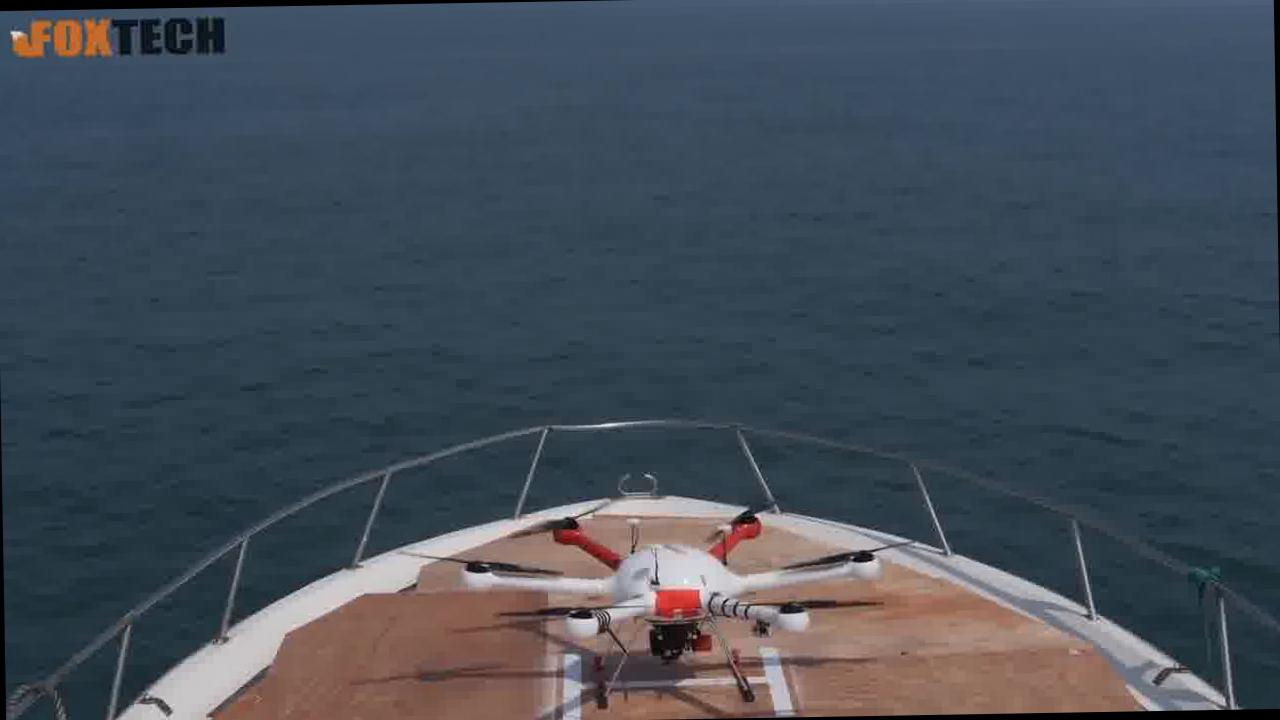drone: (442, 486, 894, 710)
